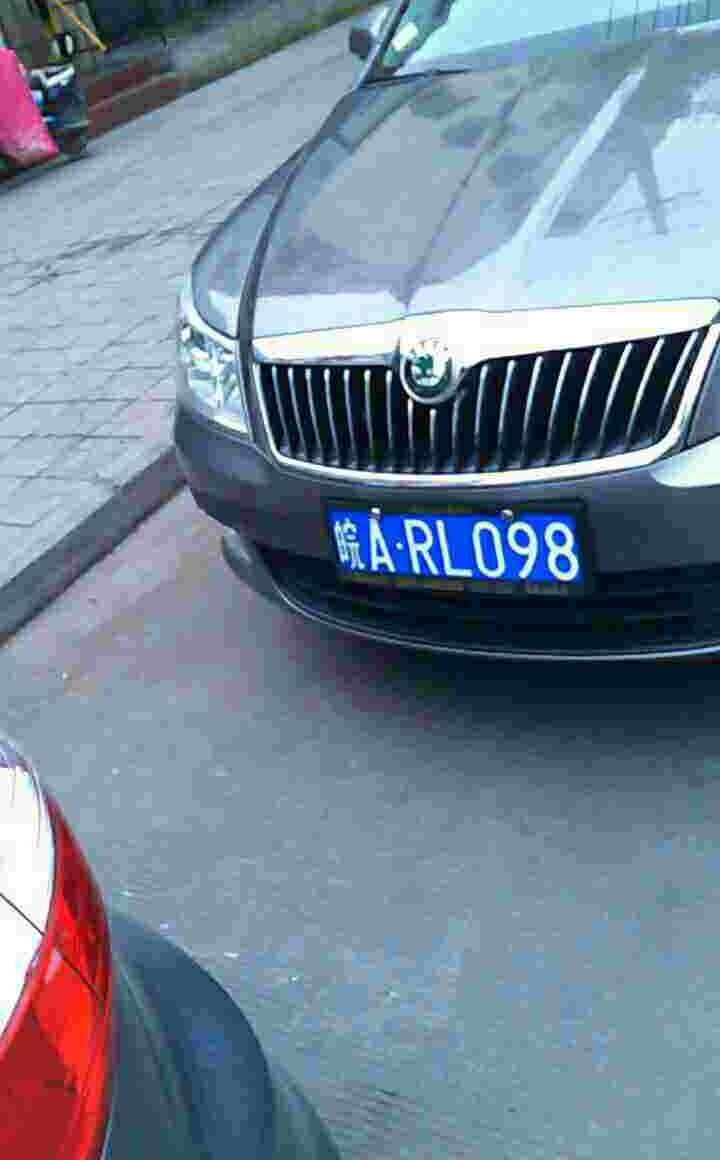car: (326, 514, 588, 591)
